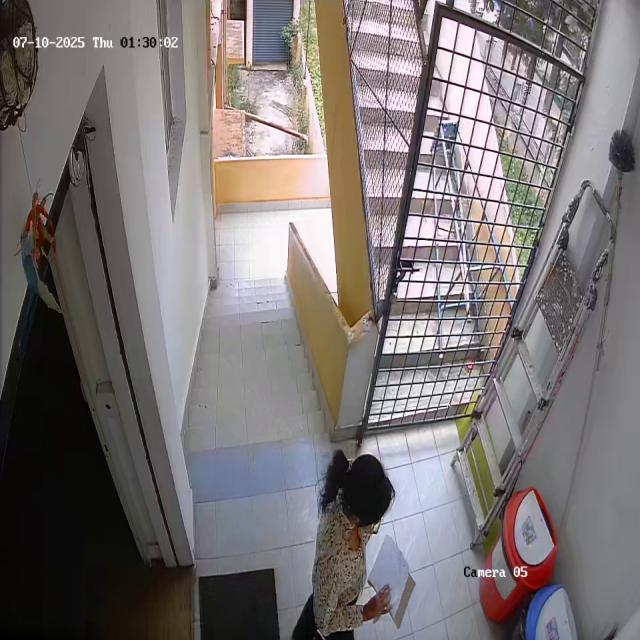person: (309, 449, 394, 640)
